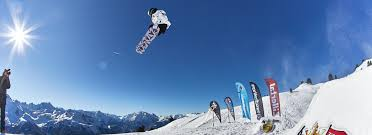snowboard: (133, 23, 161, 56), (266, 77, 282, 127), (248, 81, 265, 124), (233, 80, 250, 122), (207, 99, 223, 127), (223, 96, 237, 126)
